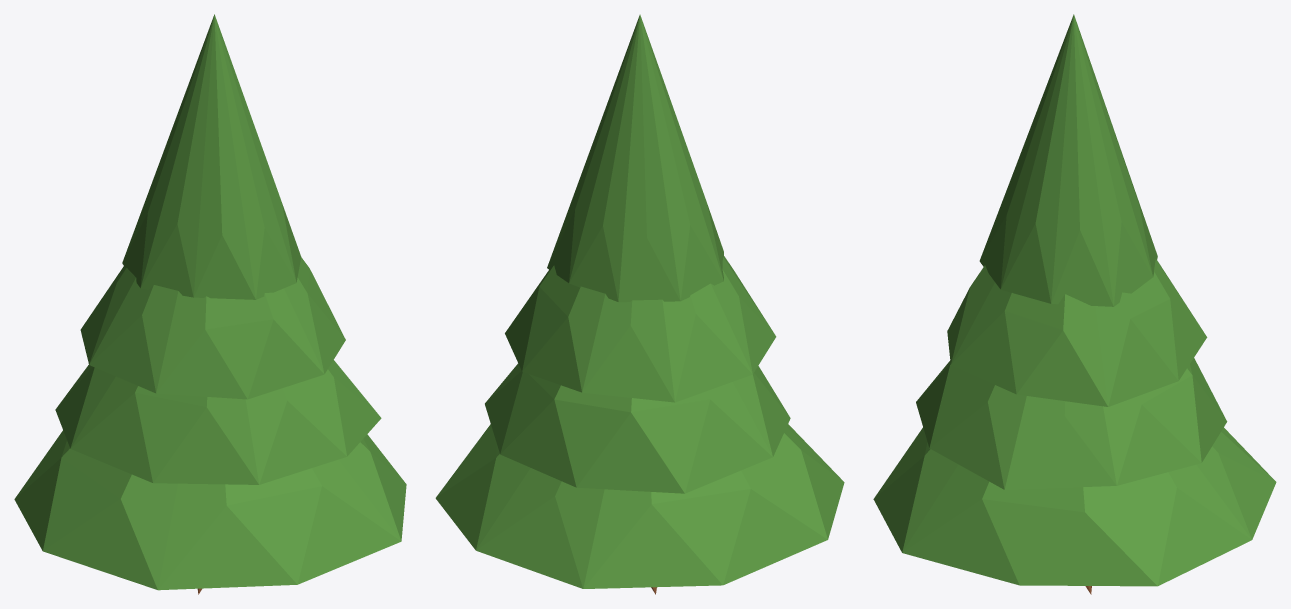
File: pine_b.glb
3 views of the same model, side by side, from view 1: azimuth 30°, elevation 25°; view 2: azimuth 150°, elevation 25°; view 3: azimuth 270°, elevation 25° (orthographic).
Visible parts, largest first — view 1: pine_b_laub; view 2: pine_b_laub; view 3: pine_b_laub.
Part boxes in pixels (box(x1,y1,x2,y2)): pine_b_laub: box(14, 14, 406, 590); pine_b_laub: box(435, 14, 844, 588); pine_b_laub: box(873, 14, 1276, 586).
Size of the model in its own units: 3.37 by 5.16 by 3.41.
